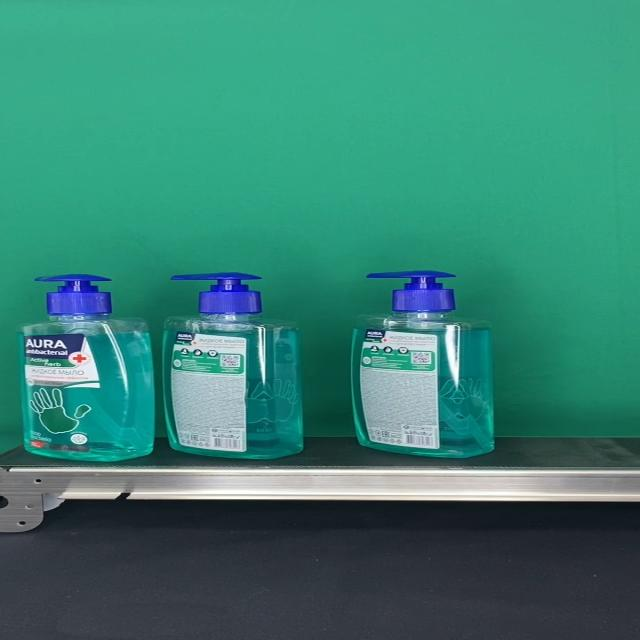Bottle: (350, 269, 494, 459), (162, 273, 304, 459), (18, 274, 155, 461)
Cap: (169, 273, 260, 316), (365, 270, 457, 312), (32, 274, 112, 314)
